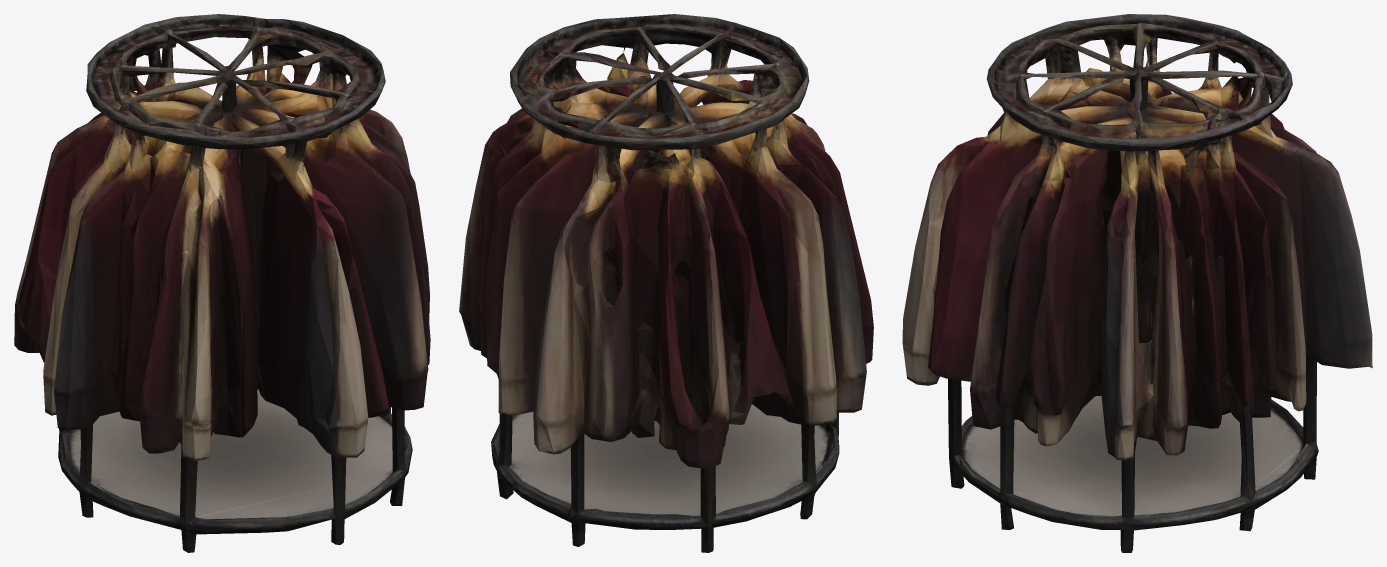
Rendered from rack_clothing_round_dark.glb.
The picture shows the model from 3 angles, left to right: view 1: azimuth 30°, elevation 25°; view 2: azimuth 150°, elevation 25°; view 3: azimuth 270°, elevation 25°; orthographic projection.
Parts seen in each view (by area): view 1: geometry_0; view 2: geometry_0; view 3: geometry_0.
Boxes of the visible parts, left/top/right/bottom form: geometry_0: left=14, top=14, right=430, bottom=552; geometry_0: left=459, top=14, right=873, bottom=552; geometry_0: left=902, top=14, right=1372, bottom=552.
Bounding box in the file's own units: 0.4562 × 0.4738 × 0.4925.
1 material, 1 textured.
